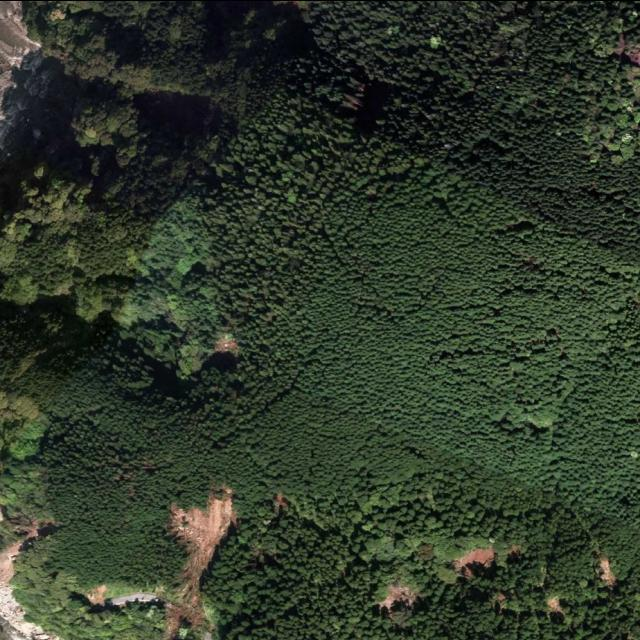landslide: (165, 489, 236, 640)
